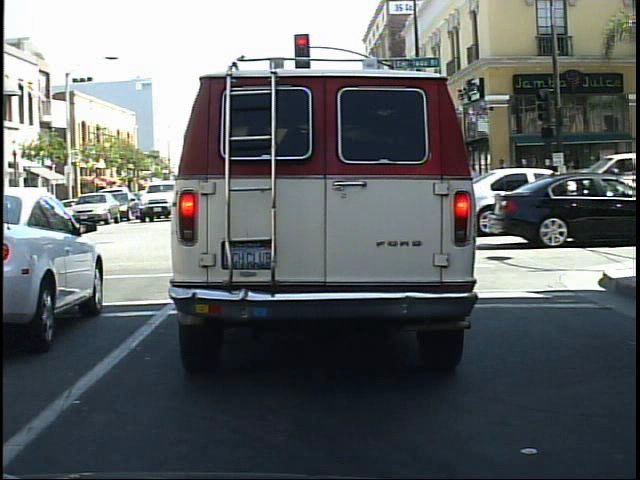person: (536, 154, 564, 218), (516, 157, 541, 212), (494, 155, 514, 213), (505, 162, 524, 212)
